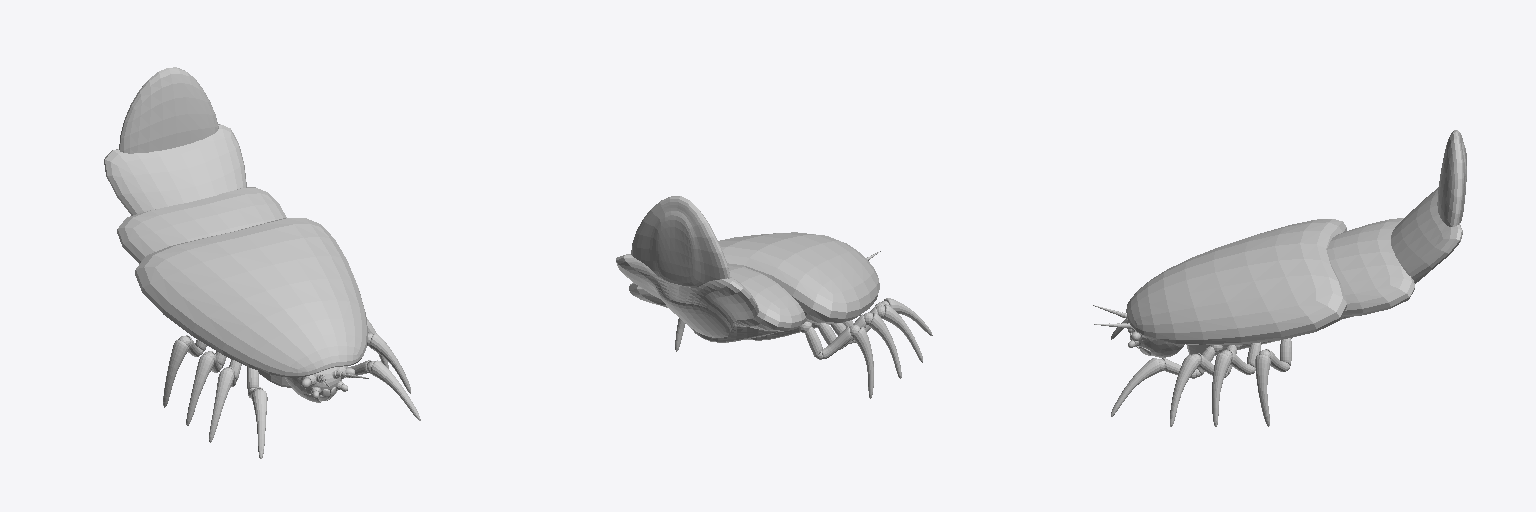
File: Bug.obj
3 renders of one model, left to right at view 1: azimuth 30°, elevation 25°; view 2: azimuth 150°, elevation 25°; view 3: azimuth 270°, elevation 25°, orthographic.
Parts seen in each view (by area): view 1: Arah_low_Куб; view 2: Arah_low_Куб; view 3: Arah_low_Куб.
Boxes of the visible parts, box(x1,y1,x2,y2) form: Arah_low_Куб: box(104, 67, 420, 458); Arah_low_Куб: box(616, 196, 932, 398); Arah_low_Куб: box(1093, 130, 1466, 426).
Size of the model in its own units: 0.9003 by 1.05 by 1.43.